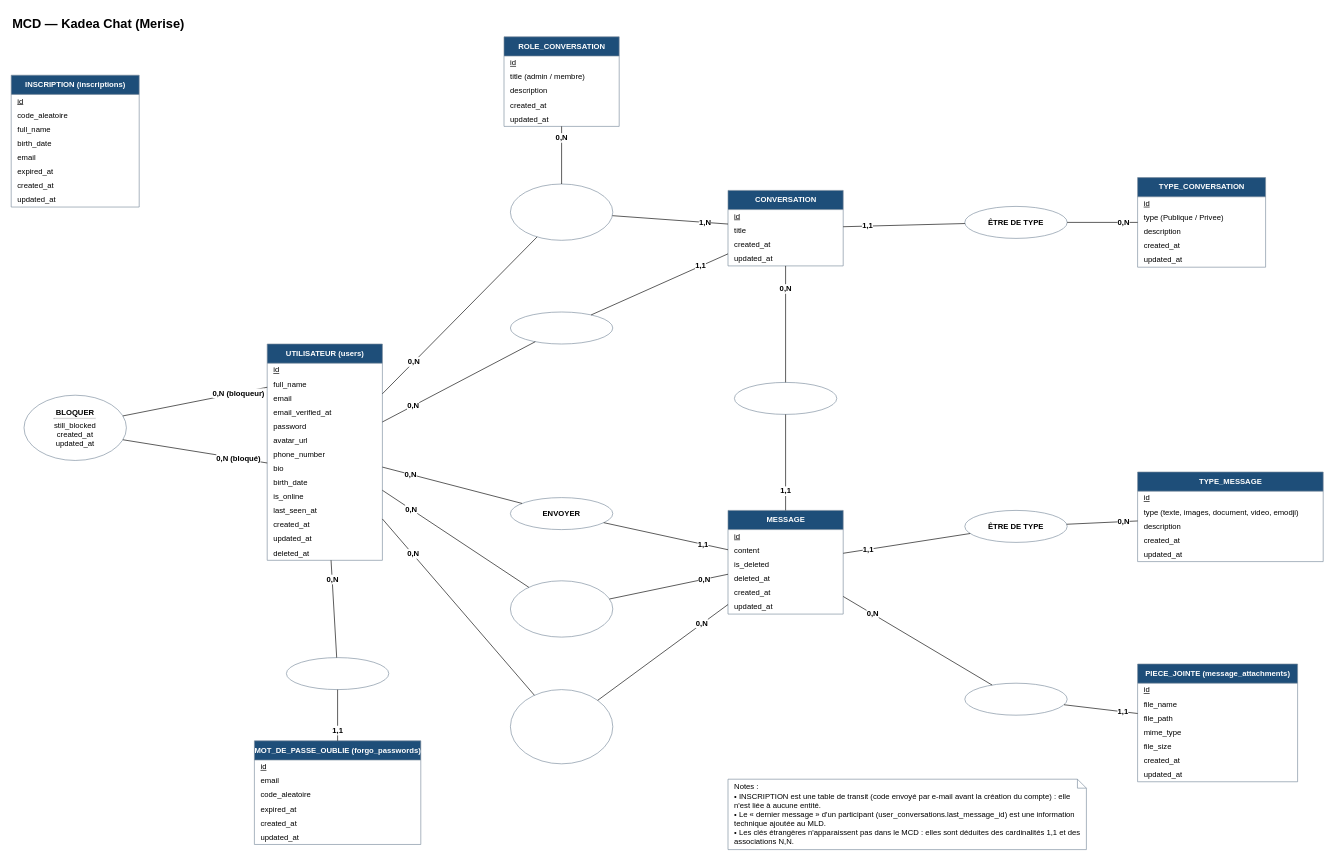
This 1334x861 diagram has some shape labels left out. The centre of each missing label's shape, as x and y in pixels:
AVOIR UN STATUT status is_read created_at updated_at: point (561, 726)
CONTENIR: point (785, 398)
CRÉER: point (561, 327)
DEMANDER: point (337, 673)
JOINDRE: point (1015, 699)
PARTICIPER joined_at removed_at: point (561, 211)
RECEVOIR created_at updated_at: point (561, 608)
